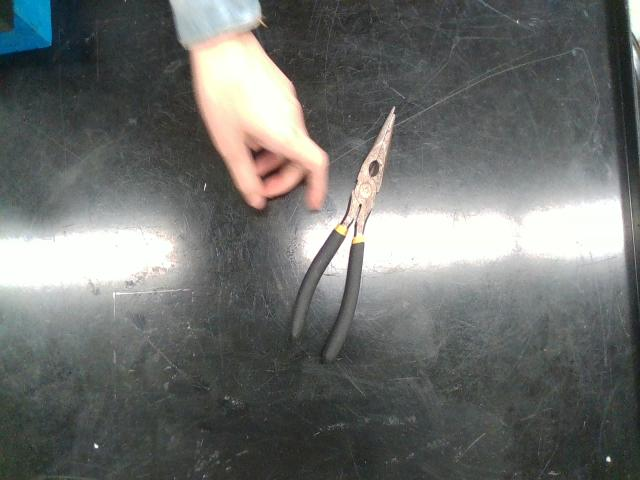Hand: (171, 0, 329, 210)
Needle-nose pliers: (291, 107, 395, 363)
